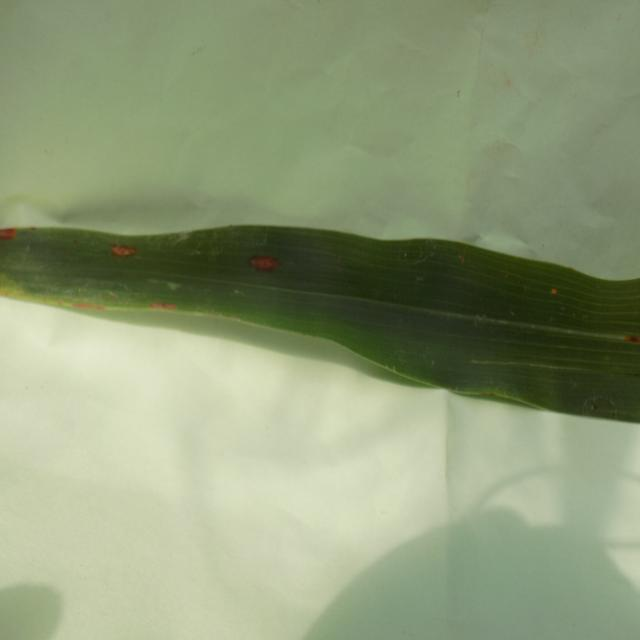millet_rust: (0, 222, 640, 425)
